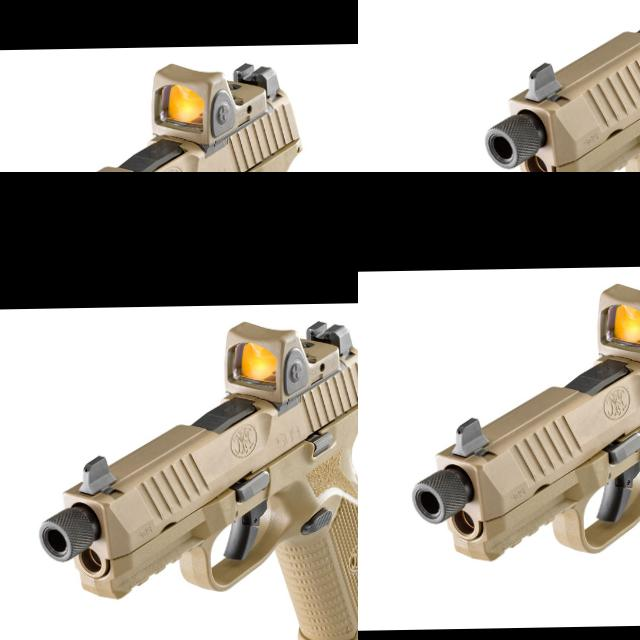handgun: (406, 276, 640, 619), (436, 0, 640, 172), (0, 310, 51, 361)
